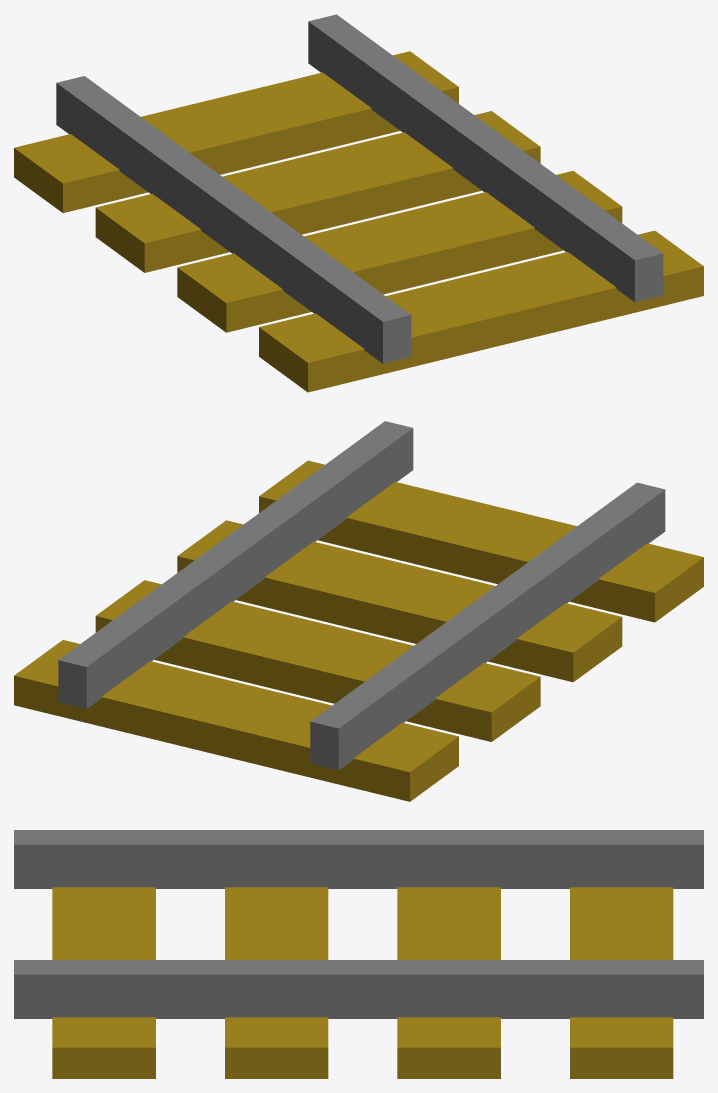
Rendered from Straight Track.fbx.
The picture shows the model from 3 angles, top to bottom: view 1: azimuth 30°, elevation 25°; view 2: azimuth 150°, elevation 25°; view 3: azimuth 270°, elevation 25°; orthographic projection. The views are drawn at different scales.
Parts seen in each view (by area): view 1: Cube.001, Track Left.001, Track Left, Cube.003, Cube.002, Cube.004; view 2: Cube.004, Track Left.001, Track Left, Cube.002, Cube.003, Cube.001; view 3: Track Left.001, Track Left, Cube.004, Cube.003, Cube.001, Cube.002.
Boxes of the visible parts, x1,y1,x2,y2 form: Cube.001: (259,230,703,392); Track Left.001: (308,14,663,302); Track Left: (56,76,411,363); Cube.003: (95,111,540,272); Cube.002: (177,170,622,332); Cube.004: (14,51,458,212); Cube.004: (14,640,458,801); Track Left.001: (58,421,413,708); Track Left: (310,482,665,770); Cube.002: (177,520,622,682); Cube.003: (95,580,540,741); Cube.001: (259,460,703,622); Track Left.001: (14,960,703,1018); Track Left: (14,830,703,888); Cube.004: (570,887,673,1078); Cube.003: (397,887,500,1078); Cube.001: (52,887,155,1078); Cube.002: (225,887,328,1078).
Bounding box in the file's own units: 350 × 59.22 × 500.
